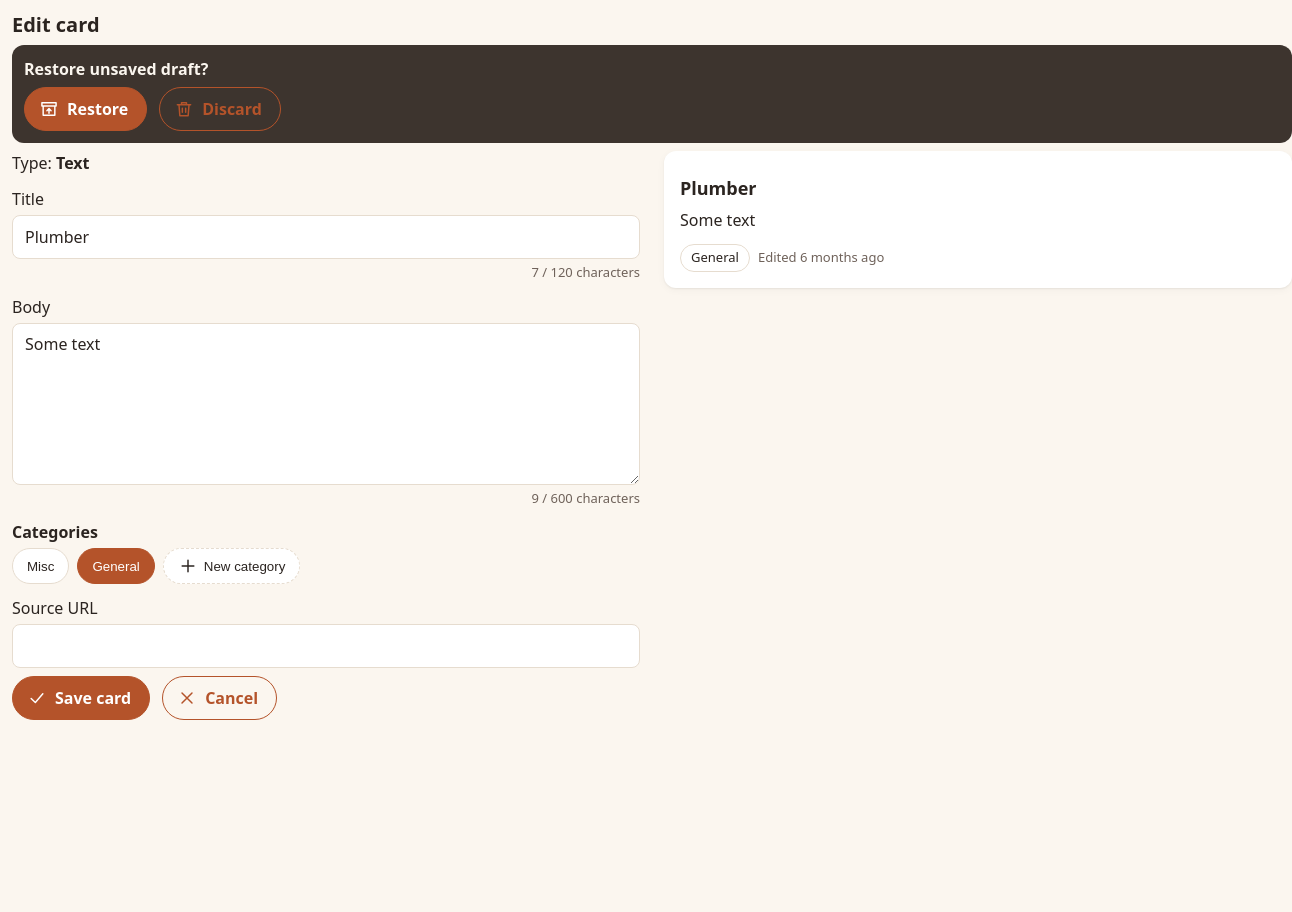
Test: CardEditor: instant categories on an existing card (D207, D208) › a restored draft keeps the saved categories, not its own
Click the button "Restore" at (86, 109), box [24,87,147,131]
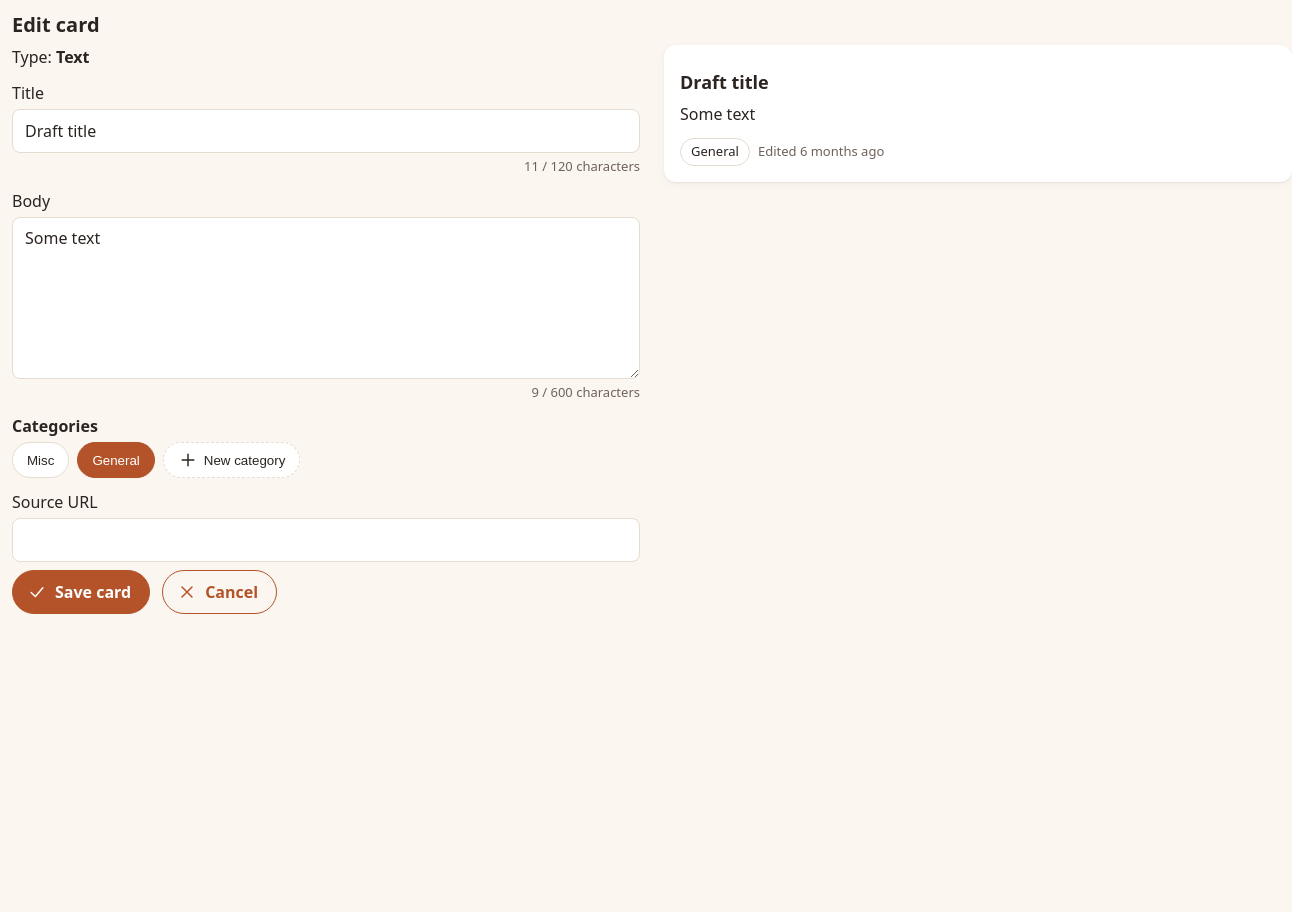
Expected: the field labelled "Title" holds "Draft title", [12,109,640,153]
